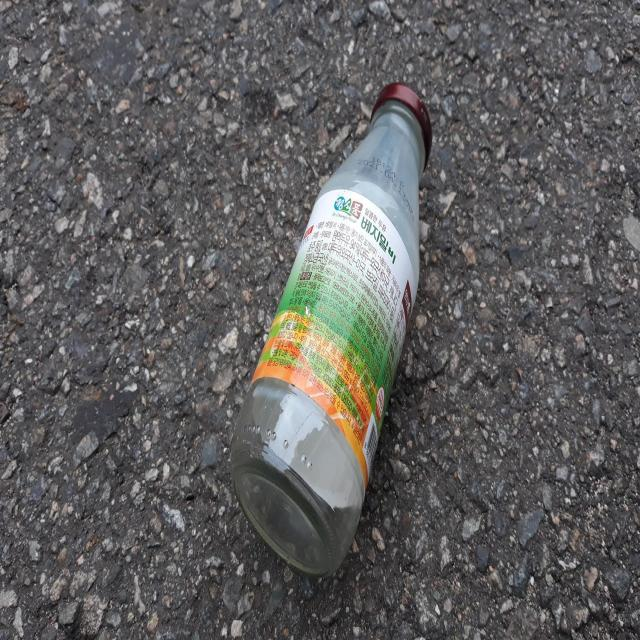glass: (231, 82, 432, 576)
